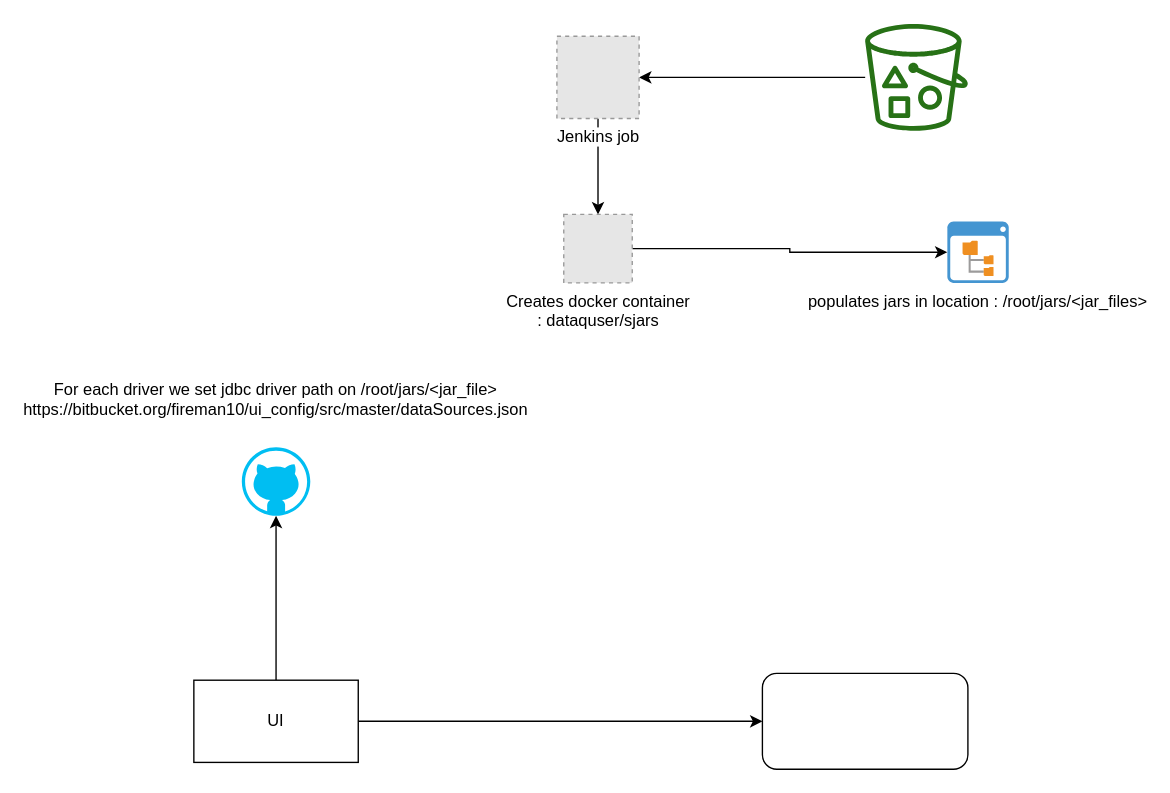
The diagram is 1170 pixels wide and 793 high, and some of its shapes have lost their labels. Grey dashed boxes stand in for pictures. Each missing label, with the box of its shape:
DMS Spark: (761, 672, 968, 769)
S3 bucket(dataqio.s3.amazonaws.com/jars/) where we store all the jar files: (864, 23, 967, 130)
